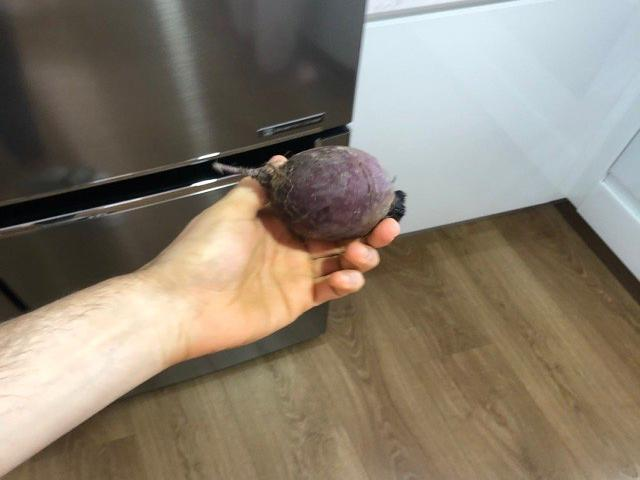beet: (215, 147, 407, 238)
